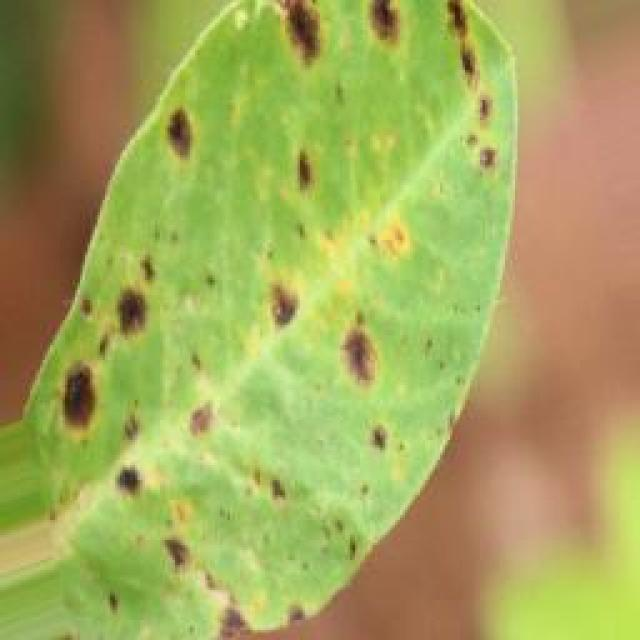Yellowish: (51, 0, 496, 585)
